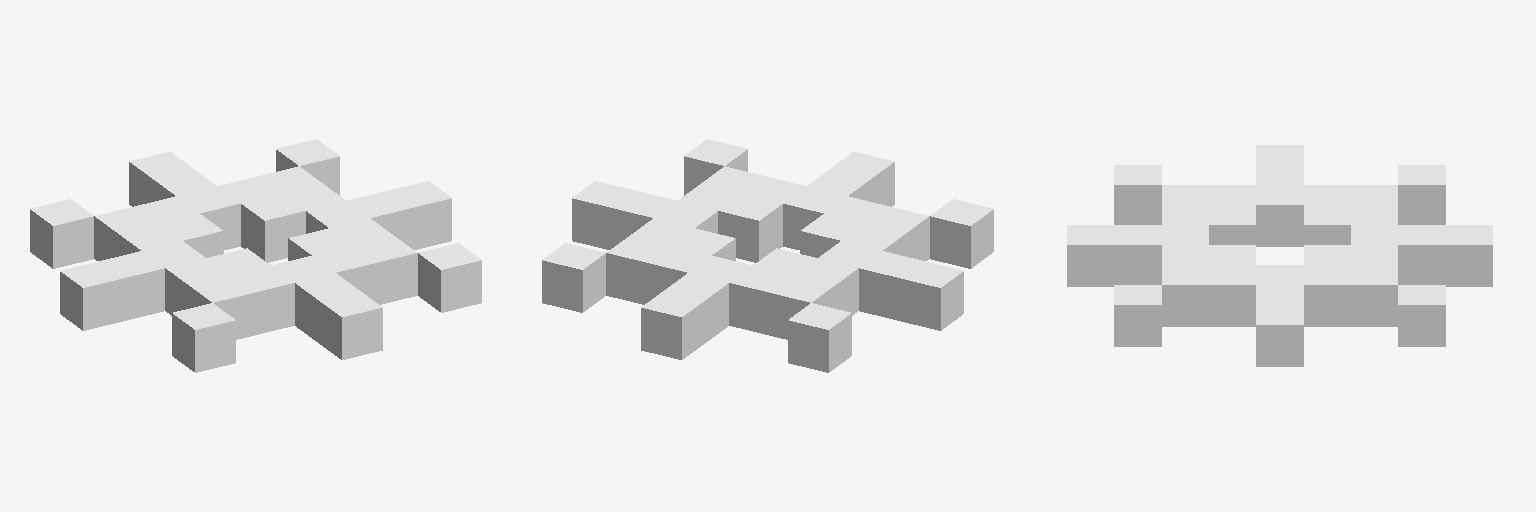
The model's file is Robot_Alpha-2-5.obj.
3 views of the same model, side by side, from view 1: azimuth 30°, elevation 25°; view 2: azimuth 150°, elevation 25°; view 3: azimuth 270°, elevation 25° (orthographic).
Visible parts, largest first — view 1: object 1; view 2: object 1; view 3: object 1.
Boxes of the visible parts, <box> form: object 1: <box>30,139,481,372</box>; object 1: <box>542,139,993,372</box>; object 1: <box>1067,145,1492,366</box>.
Bounding box in the file's own units: 0.9 × 0.1 × 0.9.